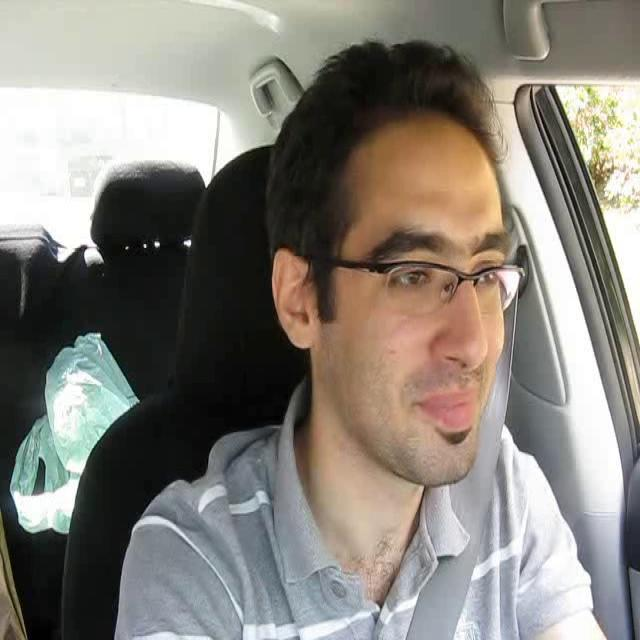close: (413, 379, 486, 435)
